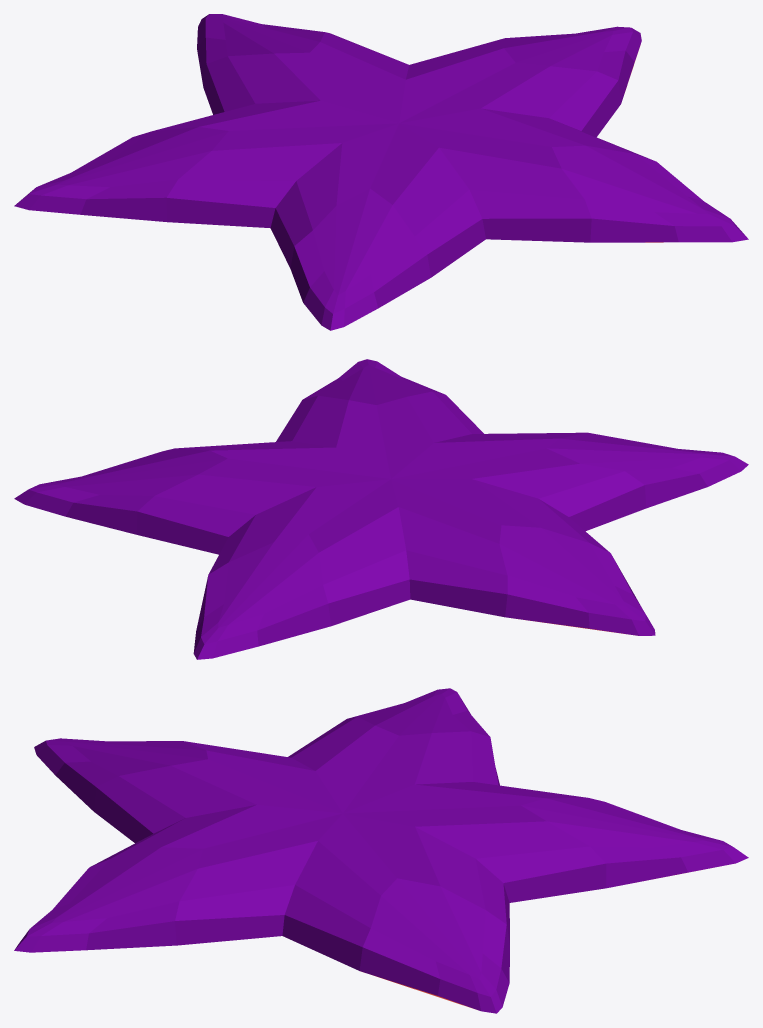
Rendered from fishesInSeaScene.obj.
3 renders of one model, top to bottom at view 1: azimuth 30°, elevation 25°; view 2: azimuth 150°, elevation 25°; view 3: azimuth 270°, elevation 25°, orthographic. The views are drawn at different scales.
Visible parts, largest first — view 1: Plane; view 2: Plane; view 3: Plane.
Boxes of the visible parts, x1,y1,x2,y2 form: Plane: [14, 14, 748, 330]; Plane: [14, 359, 748, 659]; Plane: [14, 688, 748, 1013].
Size of the model in its own units: 0.649 by 0.0528 by 0.6281.
